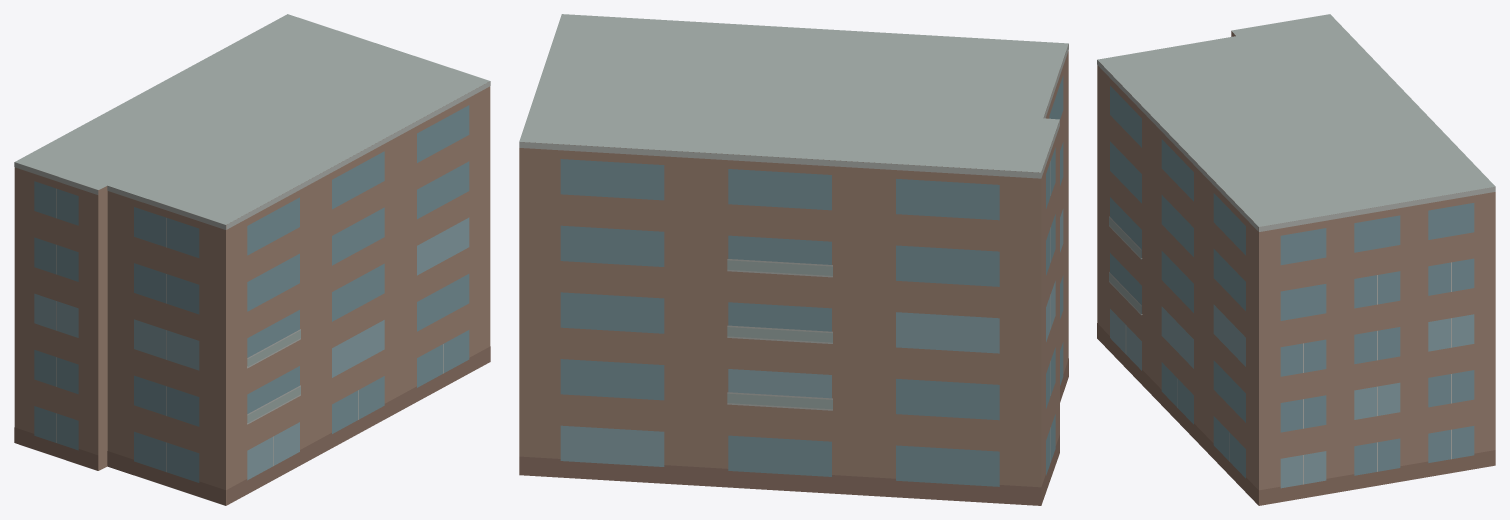
File: survey-upis-32580307.glb
3 views of the same model, side by side, from view 1: azimuth 30°, elevation 25°; view 2: azimuth 150°, elevation 25°; view 3: azimuth 270°, elevation 25° (orthographic). The views are drawn at different scales.
Parts seen in each view (by area): view 1: survey-upis-32580307.tmp; view 2: survey-upis-32580307.tmp; view 3: survey-upis-32580307.tmp.
Boxes of the visible parts, x1,y1,x2,y2 form: survey-upis-32580307.tmp: (14,14,490,505); survey-upis-32580307.tmp: (519,14,1068,505); survey-upis-32580307.tmp: (1097,14,1495,505).
Size of the model in its own units: 21.97 by 13.4 by 17.37.
